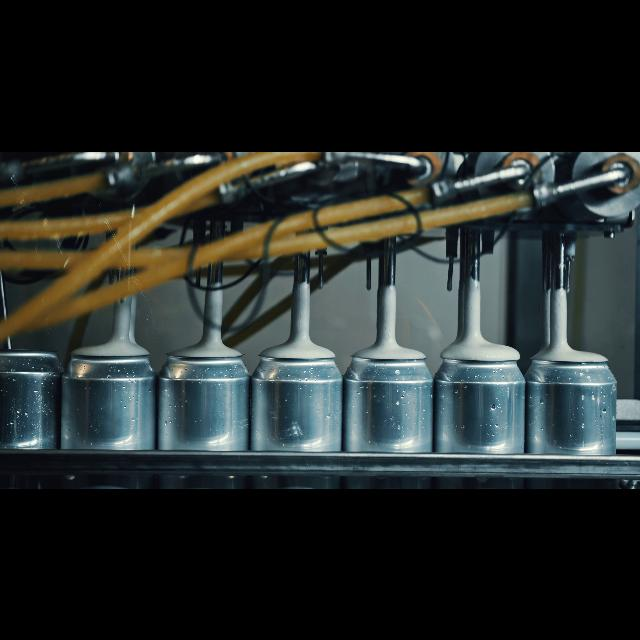empty: (2, 344, 60, 488)
full: (344, 334, 434, 488), (65, 336, 155, 488), (254, 336, 342, 488), (162, 338, 248, 488), (532, 338, 616, 488), (441, 342, 527, 488)
